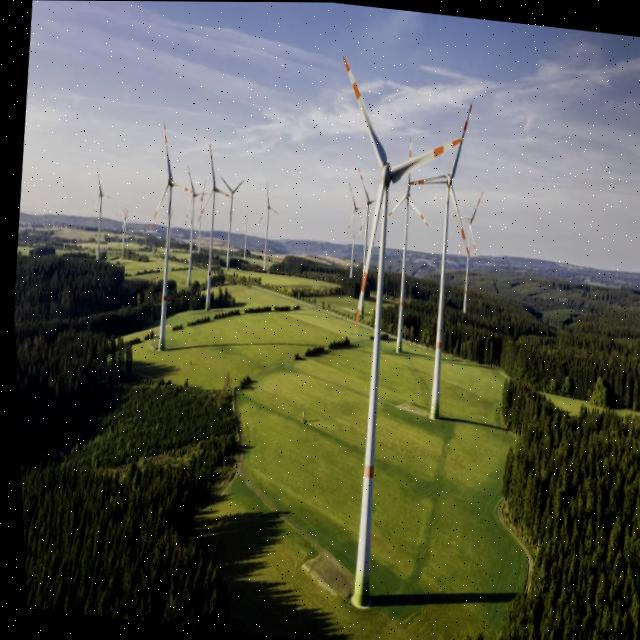solid-blade: (342, 55, 385, 167), (351, 181, 382, 326), (389, 137, 460, 183)
wind-turbine: (343, 58, 461, 606), (412, 105, 469, 418)
